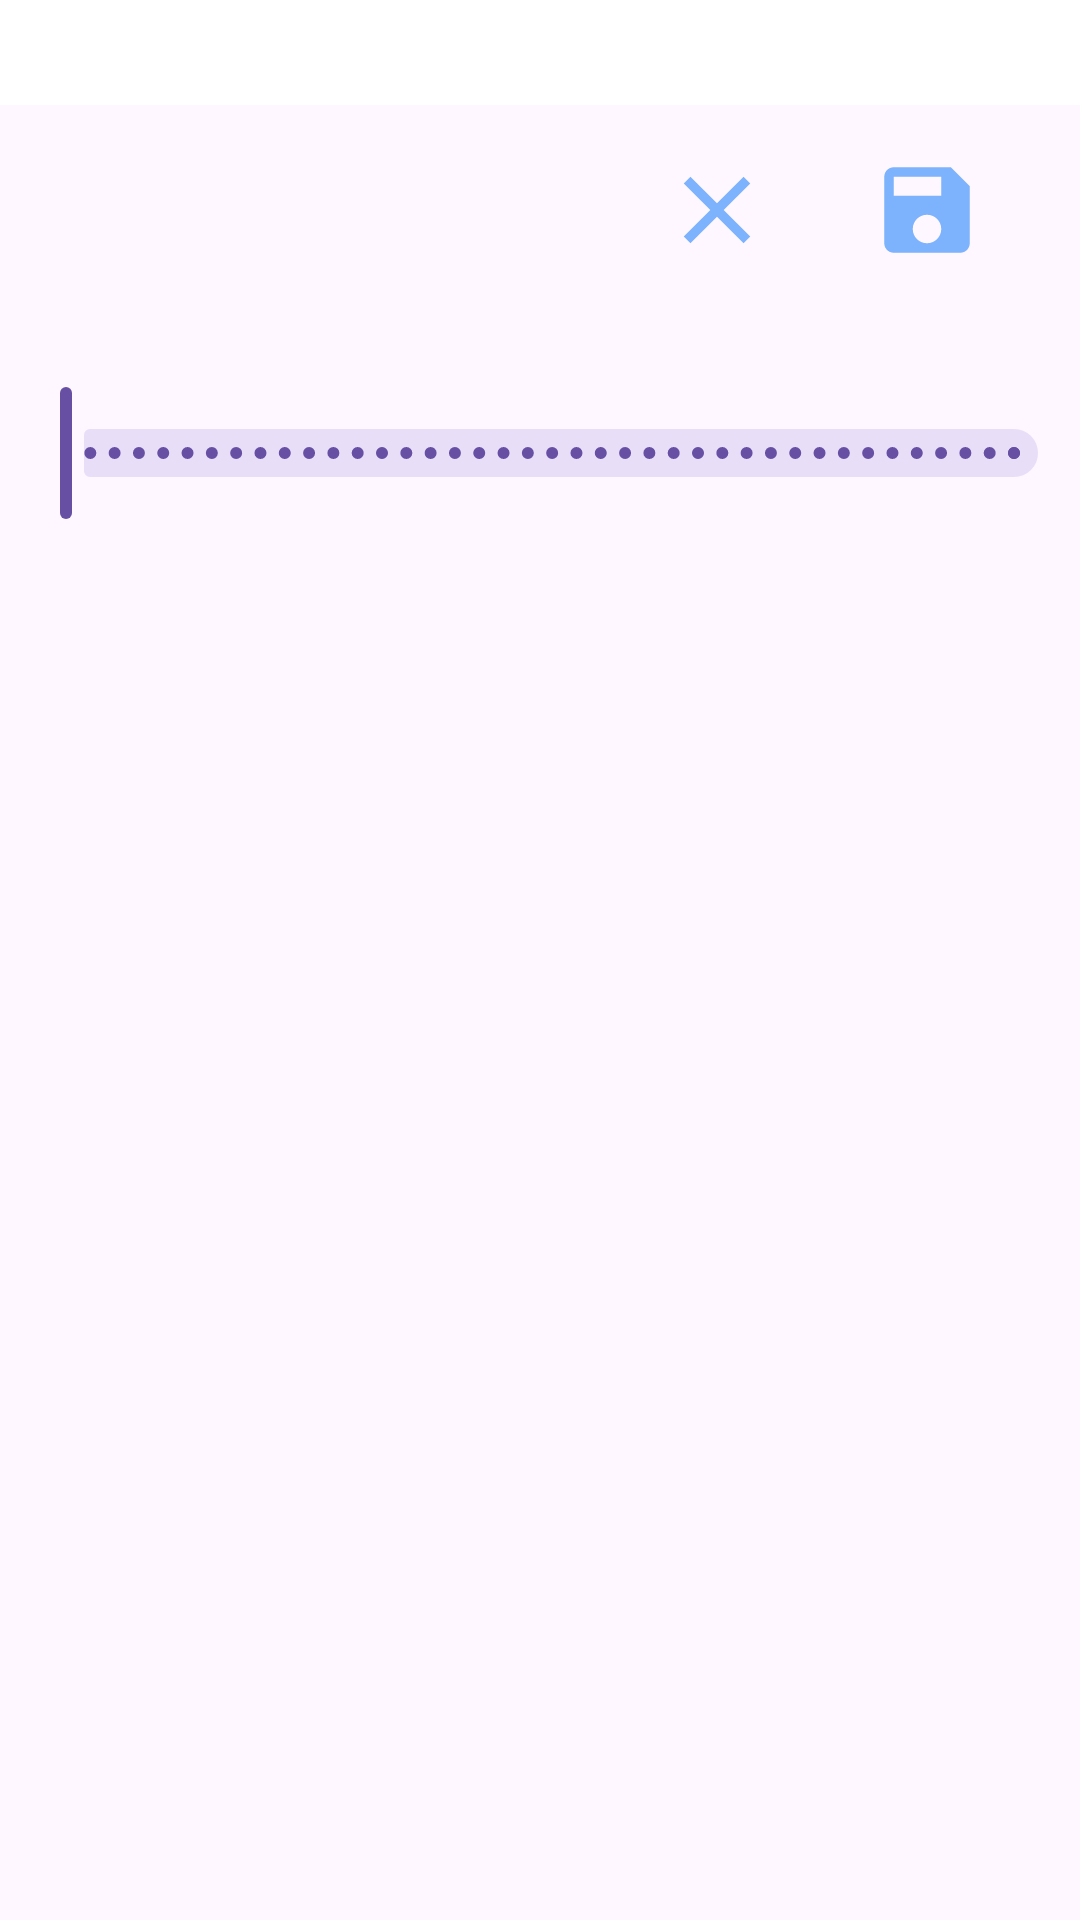

Icons on this 1080×1920 Android screen, each with its box as region(x1, y1, x2, y2):
clear: region(684, 177, 750, 243)
save: region(884, 167, 970, 253)
